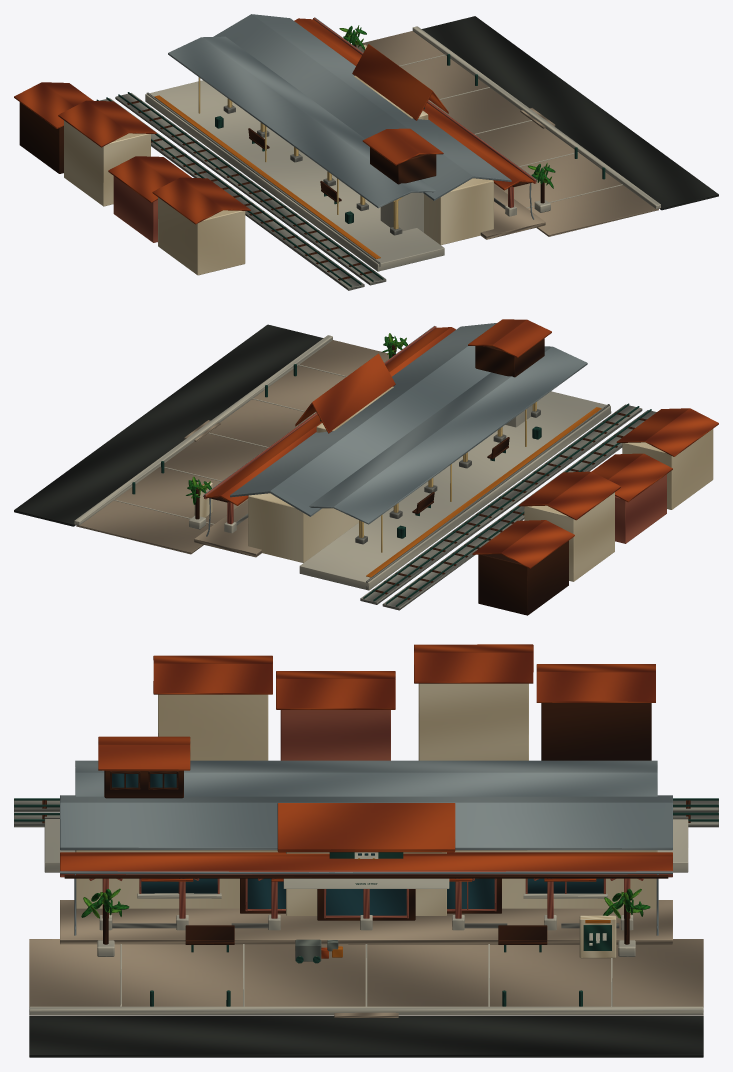
Rendered from HNP_Map007_Station_LOD1_v003.fbx.
3 renders of one model, top to bottom at view 1: azimuth 30°, elevation 25°; view 2: azimuth 150°, elevation 25°; view 3: azimuth 270°, elevation 25°, orthographic. The views are drawn at different scales.
Visible parts, largest first — view 1: MAP007_STATION_LOD1_S0_MAT_Galvanized_Roof, MAP007_STATION_LOD1_S1_MAT_Forecourt_Paver, MAP007_STATION_LOD1_S0_MAT_Concrete_Light, MAP007_STATION_LOD1_S1_MAT_Asphalt, MAP007_STATION_LOD1_S-1_MAT_Terracotta_Roof, MAP007_STATION_LOD1_S-1_MAT_Station_WarmPlaster, MAP007_STATION_LOD1_S0_MAT_Terracotta_Roof, MAP007_STATION_LOD1_S-1_MAT_Concrete_Aged, MAP007_STATION_LOD1_S0_MAT_Station_WarmPlaster, MAP007_STATION_LOD1_S-1_MAT_Aged_Timber, MAP007_STATION_LOD1_S1_MAT_Concrete_Light, MAP007_STATION_LOD1_S-1_MAT_Painted_Steel_Green (+8 smaller); view 2: MAP007_STATION_LOD1_S0_MAT_Galvanized_Roof, MAP007_STATION_LOD1_S1_MAT_Forecourt_Paver, MAP007_STATION_LOD1_S0_MAT_Concrete_Light, MAP007_STATION_LOD1_S1_MAT_Asphalt, MAP007_STATION_LOD1_S-1_MAT_Terracotta_Roof, MAP007_STATION_LOD1_S0_MAT_Terracotta_Roof, MAP007_STATION_LOD1_S-1_MAT_Concrete_Aged, MAP007_STATION_LOD1_S-1_MAT_Station_WarmPlaster, MAP007_STATION_LOD1_S-1_MAT_Aged_Timber, MAP007_STATION_LOD1_S0_MAT_Station_WarmPlaster, MAP007_STATION_LOD1_S1_MAT_Concrete_Light, MAP007_STATION_LOD1_S-1_MAT_Painted_Steel_Green (+7 smaller); view 3: MAP007_STATION_LOD1_S0_MAT_Galvanized_Roof, MAP007_STATION_LOD1_S1_MAT_Forecourt_Paver, MAP007_STATION_LOD1_S1_MAT_Asphalt, MAP007_STATION_LOD1_S0_MAT_Terracotta_Roof, MAP007_STATION_LOD1_S-1_MAT_Terracotta_Roof, MAP007_STATION_LOD1_S-1_MAT_Station_WarmPlaster, MAP007_STATION_LOD1_S0_MAT_Forecourt_Paver, MAP007_STATION_LOD1_S0_MAT_Station_WarmPlaster, MAP007_STATION_LOD1_S0_MAT_Aged_Timber, MAP007_STATION_LOD1_S1_MAT_Concrete_Light, MAP007_STATION_LOD1_S0_MAT_Window_Glass, MAP007_STATION_LOD1_S-1_MAT_Aged_Timber (+10 smaller).
Boxes of the visible parts, <box> form: MAP007_STATION_LOD1_S0_MAT_Galvanized_Roof: <box>168,14,536,219</box>; MAP007_STATION_LOD1_S1_MAT_Forecourt_Paver: <box>356,31,658,236</box>; MAP007_STATION_LOD1_S0_MAT_Concrete_Light: <box>145,80,550,271</box>; MAP007_STATION_LOD1_S1_MAT_Asphalt: <box>421,16,718,210</box>; MAP007_STATION_LOD1_S-1_MAT_Terracotta_Roof: <box>14,82,250,224</box>; MAP007_STATION_LOD1_S-1_MAT_Station_WarmPlaster: <box>64,120,245,275</box>; MAP007_STATION_LOD1_S0_MAT_Terracotta_Roof: <box>294,18,534,190</box>; MAP007_STATION_LOD1_S-1_MAT_Concrete_Aged: <box>99,92,386,290</box>; MAP007_STATION_LOD1_S0_MAT_Station_WarmPlaster: <box>354,44,493,245</box>; MAP007_STATION_LOD1_S-1_MAT_Aged_Timber: <box>19,100,374,280</box>; MAP007_STATION_LOD1_S1_MAT_Concrete_Light: <box>399,26,660,208</box>; MAP007_STATION_LOD1_S-1_MAT_Painted_Steel_Green: <box>96,92,383,287</box>; MAP007_STATION_LOD1_S0_MAT_Galvanized_Roof: <box>203,323,587,536</box>; MAP007_STATION_LOD1_S1_MAT_Forecourt_Paver: <box>76,340,388,554</box>; MAP007_STATION_LOD1_S0_MAT_Concrete_Light: <box>189,391,611,590</box>; MAP007_STATION_LOD1_S1_MAT_Asphalt: <box>14,324,323,526</box>; MAP007_STATION_LOD1_S-1_MAT_Terracotta_Roof: <box>472,408,718,568</box>; MAP007_STATION_LOD1_S0_MAT_Terracotta_Roof: <box>205,319,551,505</box>; MAP007_STATION_LOD1_S-1_MAT_Concrete_Aged: <box>360,404,656,610</box>; MAP007_STATION_LOD1_S-1_MAT_Station_WarmPlaster: <box>524,429,713,581</box>; MAP007_STATION_LOD1_S-1_MAT_Aged_Timber: <box>372,412,646,615</box>; MAP007_STATION_LOD1_S0_MAT_Station_WarmPlaster: <box>194,386,393,562</box>; MAP007_STATION_LOD1_S1_MAT_Concrete_Light: <box>74,335,346,525</box>; MAP007_STATION_LOD1_S-1_MAT_Painted_Steel_Green: <box>363,403,651,606</box>; MAP007_STATION_LOD1_S0_MAT_Galvanized_Roof: <box>60,760,672,935</box>; MAP007_STATION_LOD1_S1_MAT_Forecourt_Paver: <box>29,939,703,1017</box>; MAP007_STATION_LOD1_S1_MAT_Asphalt: <box>29,1016,703,1057</box>; MAP007_STATION_LOD1_S0_MAT_Terracotta_Roof: <box>60,736,672,958</box>; MAP007_STATION_LOD1_S-1_MAT_Terracotta_Roof: <box>153,644,655,709</box>; MAP007_STATION_LOD1_S-1_MAT_Station_WarmPlaster: <box>158,683,528,760</box>; MAP007_STATION_LOD1_S0_MAT_Forecourt_Paver: <box>60,900,672,944</box>; MAP007_STATION_LOD1_S0_MAT_Station_WarmPlaster: <box>75,850,657,958</box>; MAP007_STATION_LOD1_S0_MAT_Aged_Timber: <box>64,770,668,944</box>; MAP007_STATION_LOD1_S1_MAT_Concrete_Light: <box>29,944,703,1015</box>; MAP007_STATION_LOD1_S0_MAT_Window_Glass: <box>112,773,603,915</box>; MAP007_STATION_LOD1_S-1_MAT_Aged_Timber: <box>42,703,690,823</box>.
Size of the model in its own units: 4990 by 917 by 4600.
